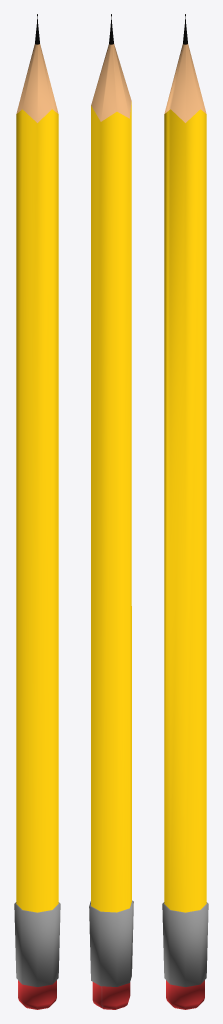
Rendered from Pencil1.fbx.
3 views of the same model, side by side, from view 1: azimuth 90°, elevation 25°; view 2: azimuth 150°, elevation 25°; view 3: azimuth 270°, elevation 25° (orthographic).
Parts seen in each view (by area): view 1: Cylinder; view 2: Cylinder; view 3: Cylinder.
Part boxes in pixels (x1,y1,x2,y2): Cylinder: [14, 14, 60, 1009]; Cylinder: [89, 14, 133, 1009]; Cylinder: [162, 14, 208, 1009].
Bounding box in the file's own units: 18.61 × 439 × 18.61.
1 material, 1 textured.
